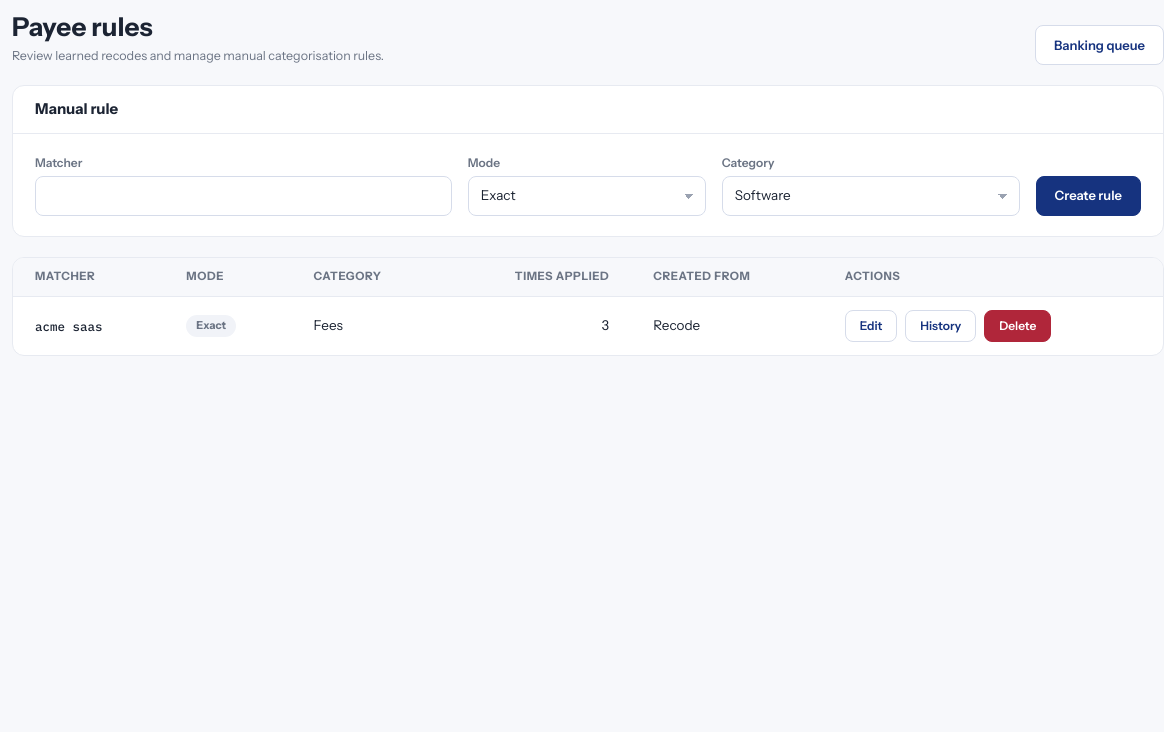
Test: BankingPayeeRulesScreen › lists, creates, edits, and deletes payee rules
expect the text "acme saas" is shown: met, box [13,296,164,355]
expect the text "Fees" is shown: met, box [292,296,443,355]
Type "New Vendor" into the field labelled "Matcher" at [243, 196], box [35,176,452,216]
Select "Contains" in the dropdown labelled "Mode" at [587, 196], box [468,176,706,216]
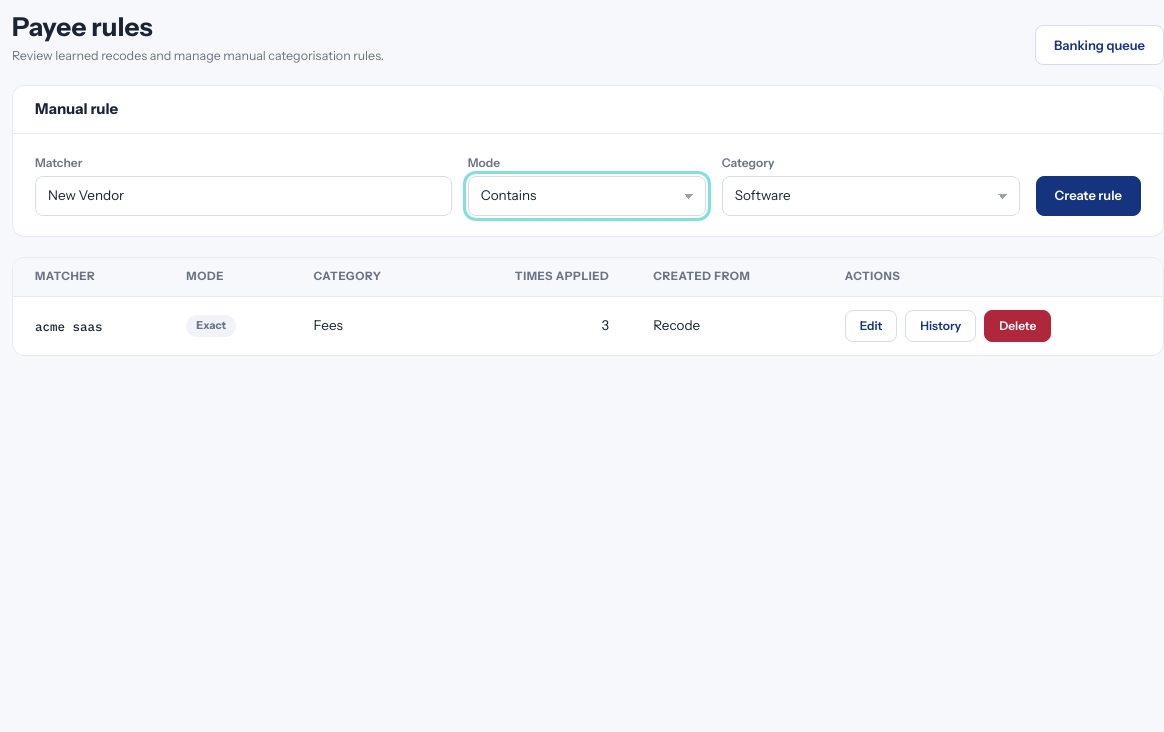
Select "Office" in the dropdown labelled "Category" at [871, 196], box [722,176,1020,216]
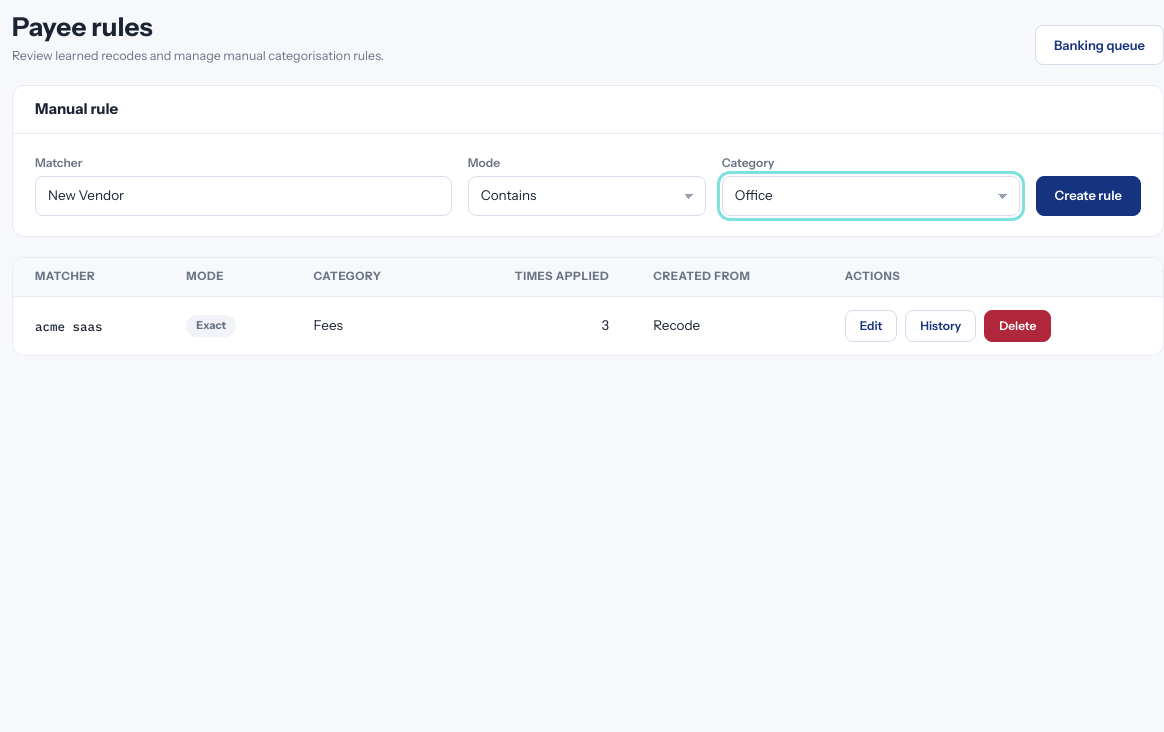
Click the button "Create rule" at [1088, 196], box [1036,176,1141,216]
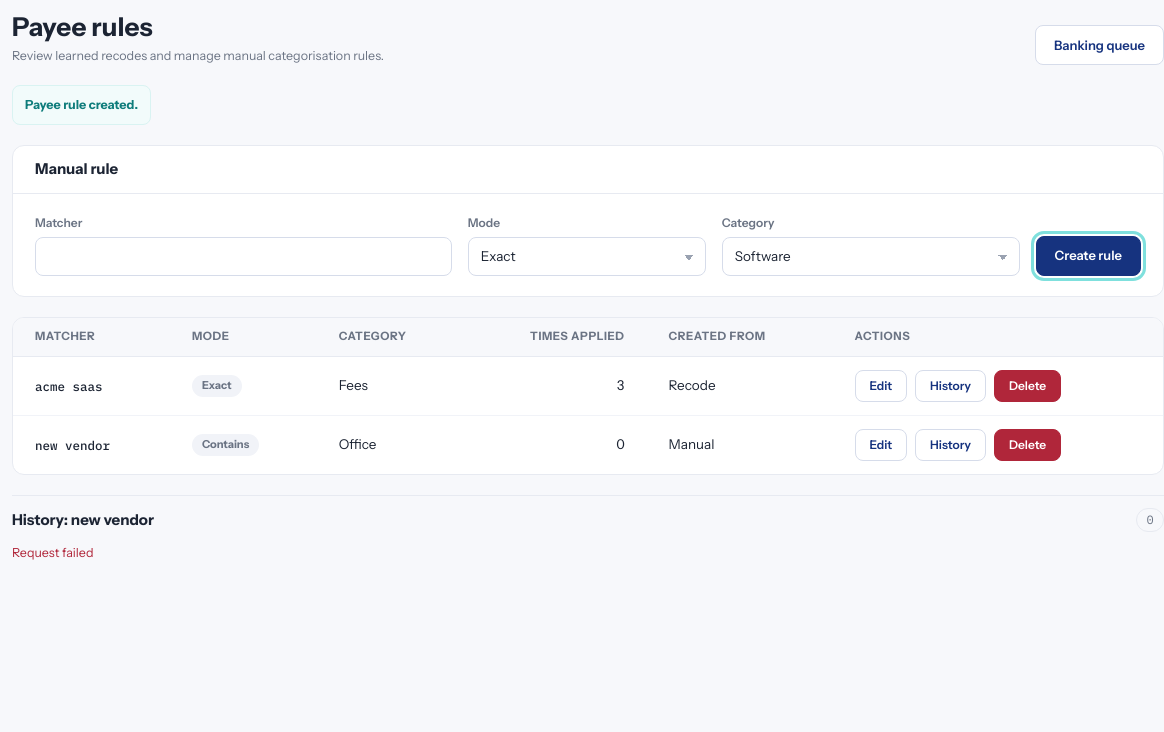
expect the text "acme saas" is shown: met, box [35,378,102,394]
expect the text "new vendor" is shown: met, box [13,415,170,474]
Click the button "Edit" in the row of "acme saas" at [881, 386], box [854,370,907,402]
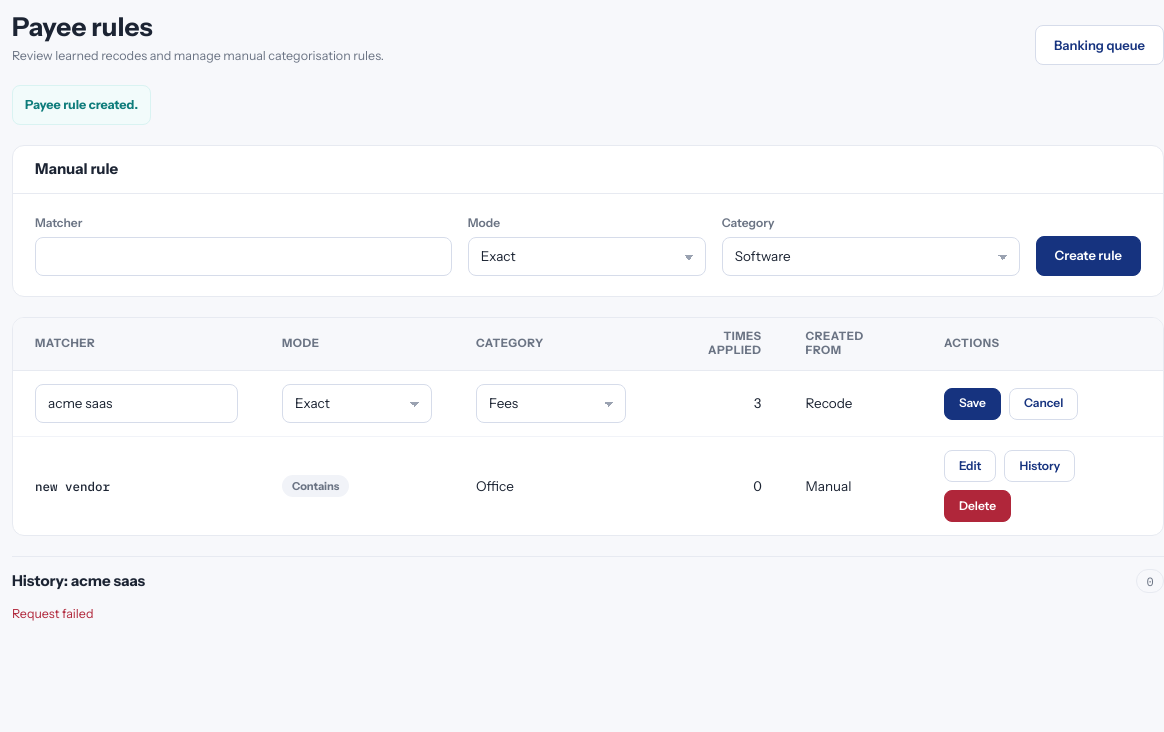
Select "Software" in the dropdown named "Category for acme saas" at [551, 404], box [476,384,626,423]
Click the button "Save" at [972, 404], box [944,388,1001,420]
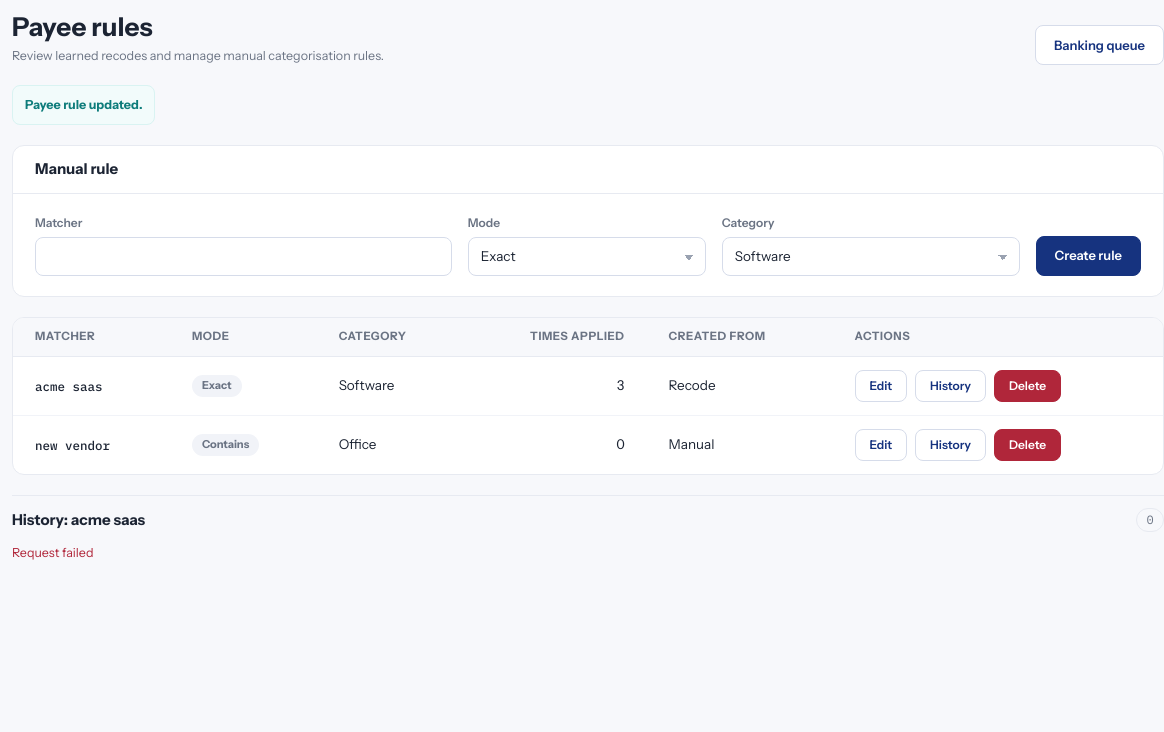
expect the text "acme saas" shows "Software": met, box [339,377,394,393]
expect the text "acme saas" is shown: met, box [35,378,102,394]
Click the button "Delete" in the row of "Exact" at [1028, 386], box [994,370,1061,402]
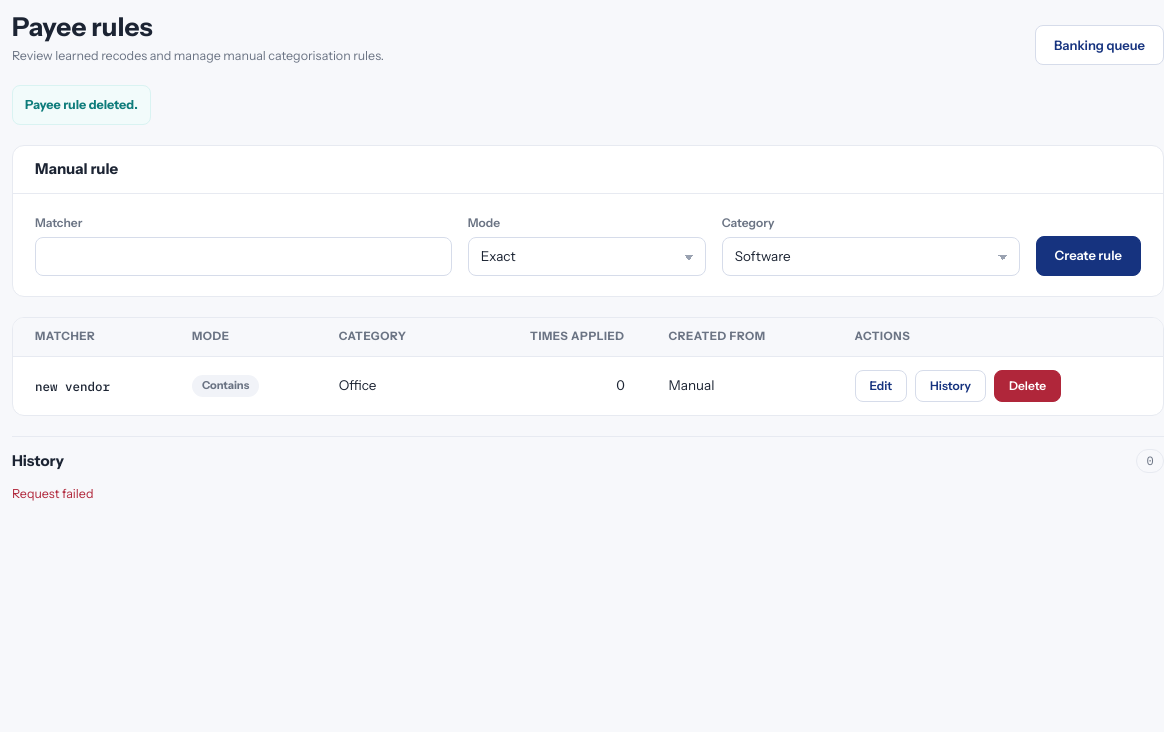
expect the text "acme saas" is gone: met
